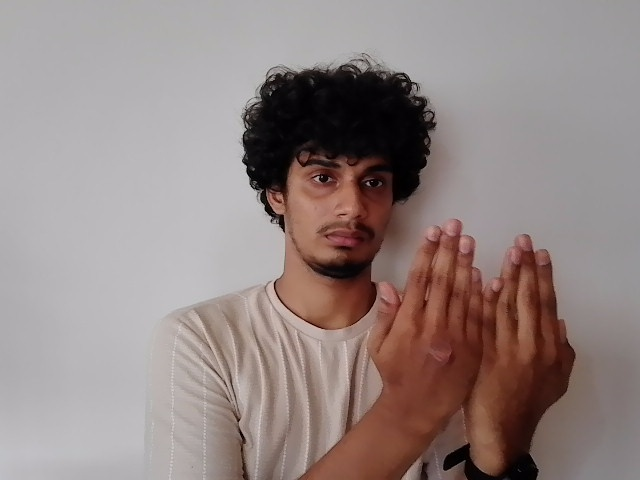school: (369, 215, 573, 428)
